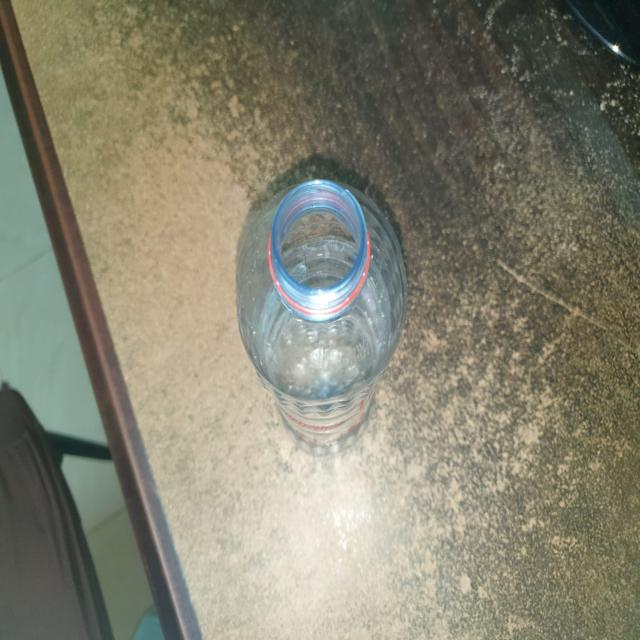plastic bottle: (227, 167, 412, 450)
